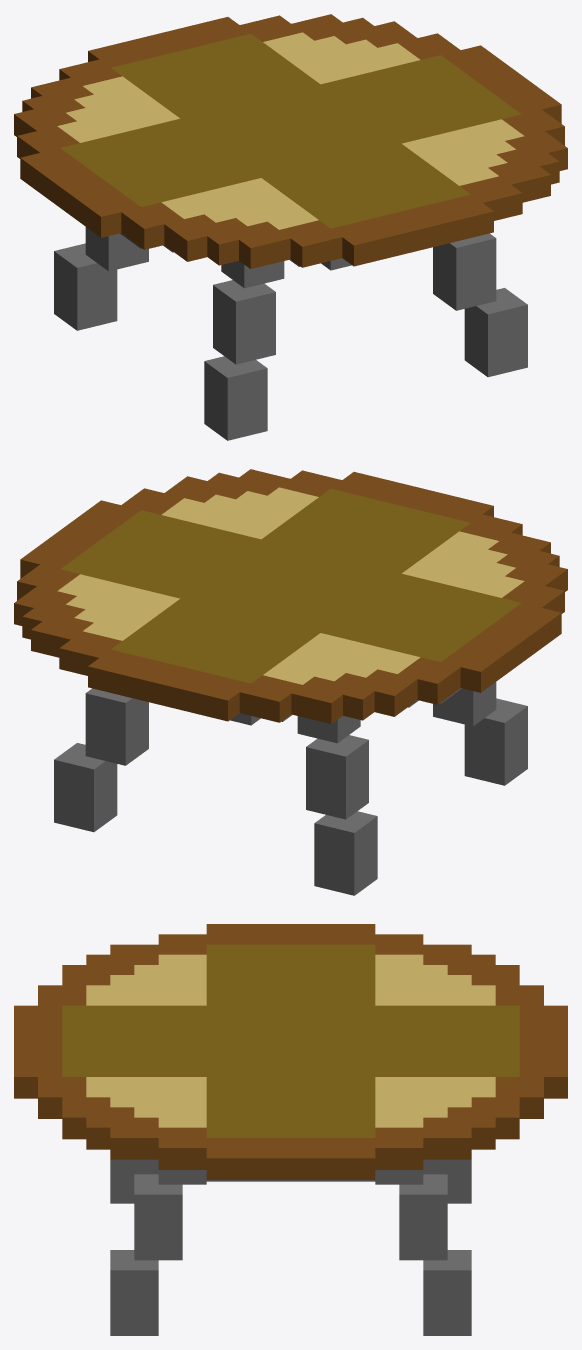
The model's file is table_prototype1.obj.
3 views of the same model, one above another, from view 1: azimuth 30°, elevation 25°; view 2: azimuth 150°, elevation 25°; view 3: azimuth 270°, elevation 25° (orthographic). The views are drawn at different scales.
Parts seen in each view (by area): view 1: table_prototype1; view 2: table_prototype1; view 3: table_prototype1.
Part boxes in pixels (bbox=[...]): table_prototype1: bbox=[14, 14, 567, 440]; table_prototype1: bbox=[14, 469, 567, 895]; table_prototype1: bbox=[14, 924, 567, 1335].
Size of the model in its own units: 46 by 20 by 46.
Materials: 1 (1 with a texture image).
